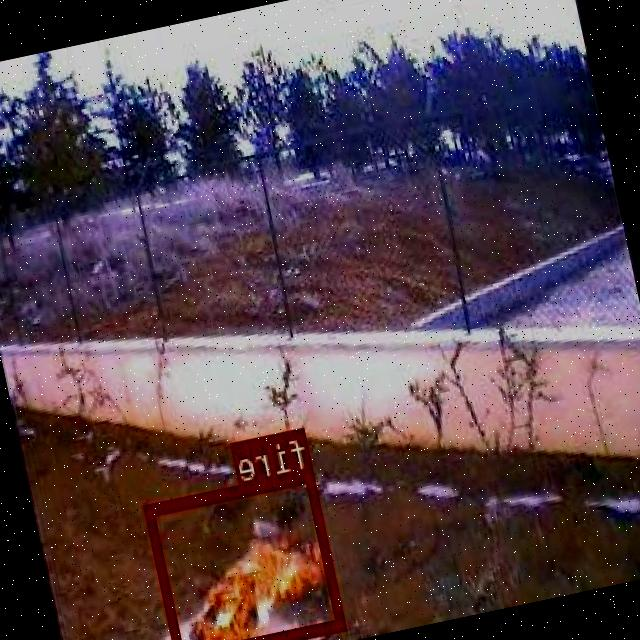fire: (144, 466, 346, 640)
